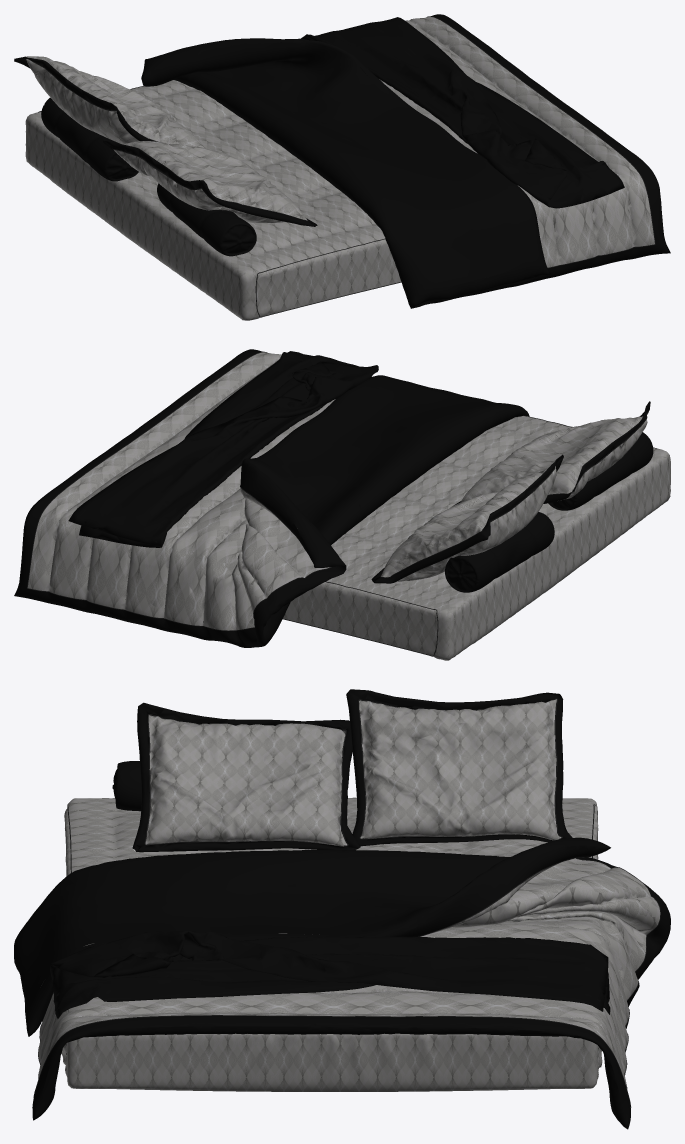
File: bed-queen-b19.glb
3 renders of one model, top to bottom at view 1: azimuth 30°, elevation 25°; view 2: azimuth 150°, elevation 25°; view 3: azimuth 270°, elevation 25°, orthographic. The views are drawn at different scales.
Visible parts, largest first — view 1: C-skp1FFA, C-Component#5, C-Component#6, C-Component#1, C-Component#2, C-Component#4, C-Component#3; view 2: C-skp1FFA, C-Component#5, C-Component#6, C-Component#2, C-Component#1, C-Component#3, C-Component#4; view 3: C-skp1FFA, C-Component#5, C-Component#6, C-Component#2, C-Component#1, C-Component#4.
Part boxes in pixels (x1=…): C-skp1FFA: x1=141, y1=14, x2=670, y2=308; C-Component#5: x1=25, y1=80, x2=622, y2=320; C-Component#6: x1=301, y1=17, x2=624, y2=208; C-Component#1: x1=103, y1=140, x2=317, y2=226; C-Component#2: x1=14, y1=56, x2=204, y2=148; C-Component#4: x1=157, y1=183, x2=256, y2=256; C-Component#3: x1=41, y1=97, x2=138, y2=181; C-skp1FFA: x1=14, y1=349, x2=529, y2=647; C-Component#5: x1=59, y1=415, x2=670, y2=660; C-Component#6: x1=68, y1=351, x2=378, y2=547; C-Component#2: x1=371, y1=454, x2=563, y2=583; C-Component#1: x1=452, y1=401, x2=650, y2=506; C-Component#3: x1=445, y1=512, x2=554, y2=592; C-Component#4: x1=548, y1=432, x2=653, y2=510; C-skp1FFA: x1=14, y1=837, x2=670, y2=1129; C-Component#5: x1=61, y1=797, x2=602, y2=1091; C-Component#6: x1=50, y1=931, x2=610, y2=1018; C-Component#2: x1=346, y1=689, x2=572, y2=846; C-Component#1: x1=132, y1=702, x2=360, y2=852; C-Component#4: x1=112, y1=761, x2=141, y2=811.
Size of the model in its own units: 1.99 by 0.6946 by 2.14.
4 materials, 1 textured.
